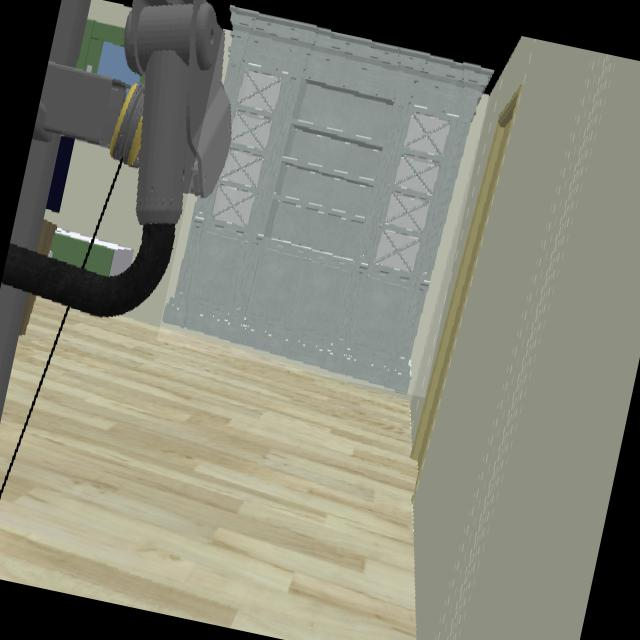bookshelf: (161, 6, 494, 393)
